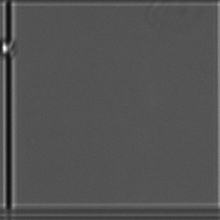Living Cell: (1, 37, 22, 59)
